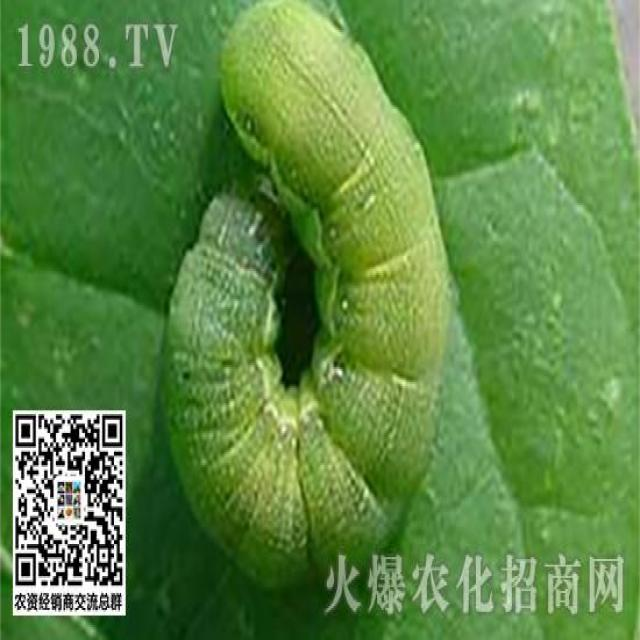BeetArmyWorm-Larva-: (158, 8, 448, 593)
